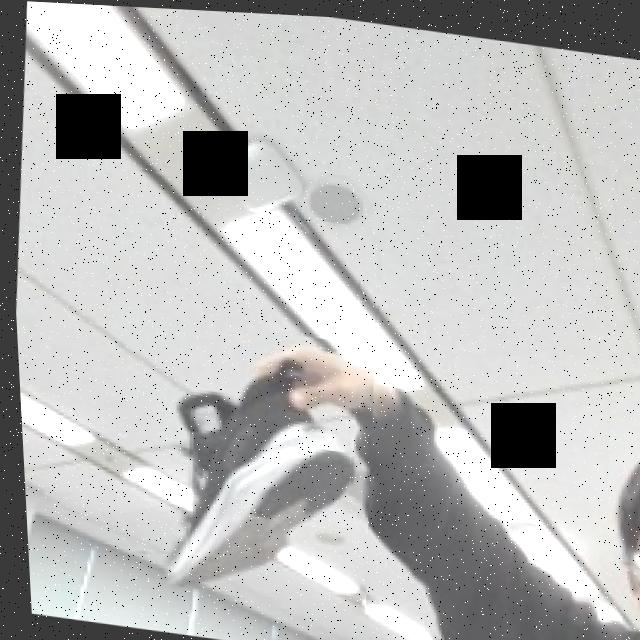shoe: (89, 308, 382, 617)
